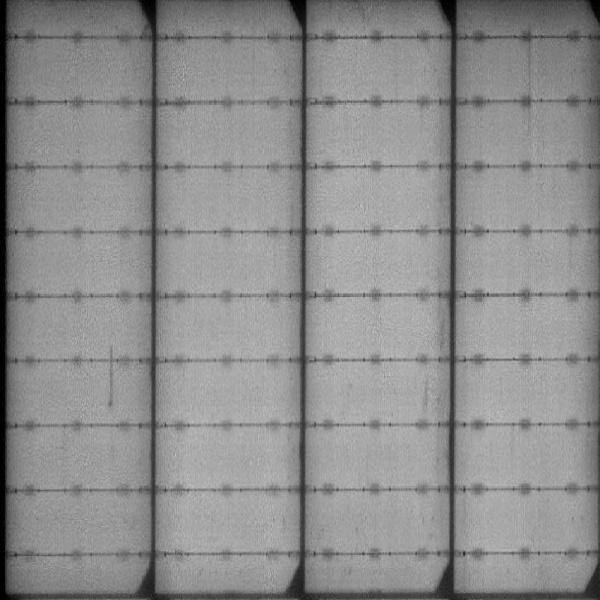scratch: (102, 343, 118, 404)
